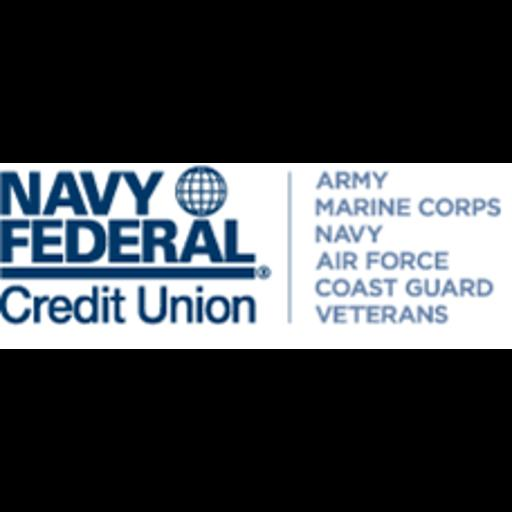Navy Federal Credit Union: (0, 163, 512, 349)
